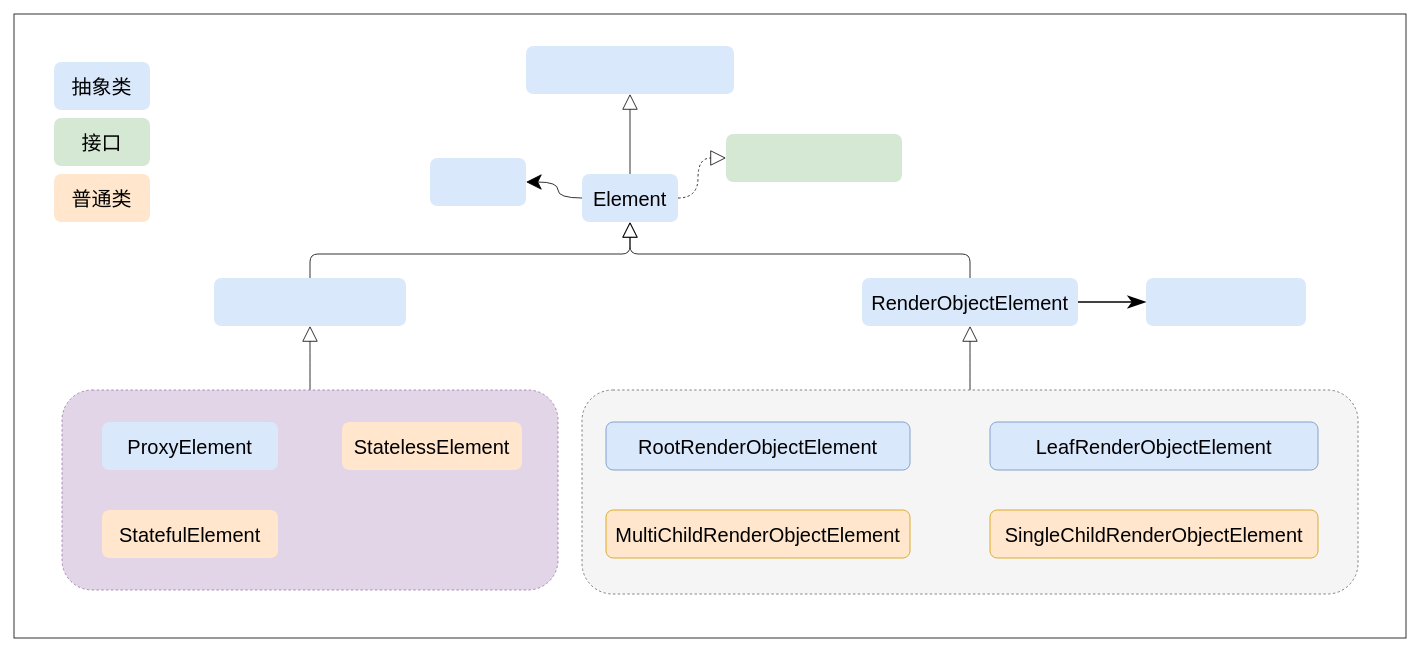
Some shapes in this 1420 by 652 pixel diagram are drawn without their labels. Each missing label, with the box of its shape:
BuildContext: (726, 134, 902, 182)
ComponentElement: (214, 278, 406, 326)
DiagnosticableTree: (526, 46, 734, 94)
RenderObject: (1146, 278, 1306, 326)
Widget: (430, 158, 526, 206)
